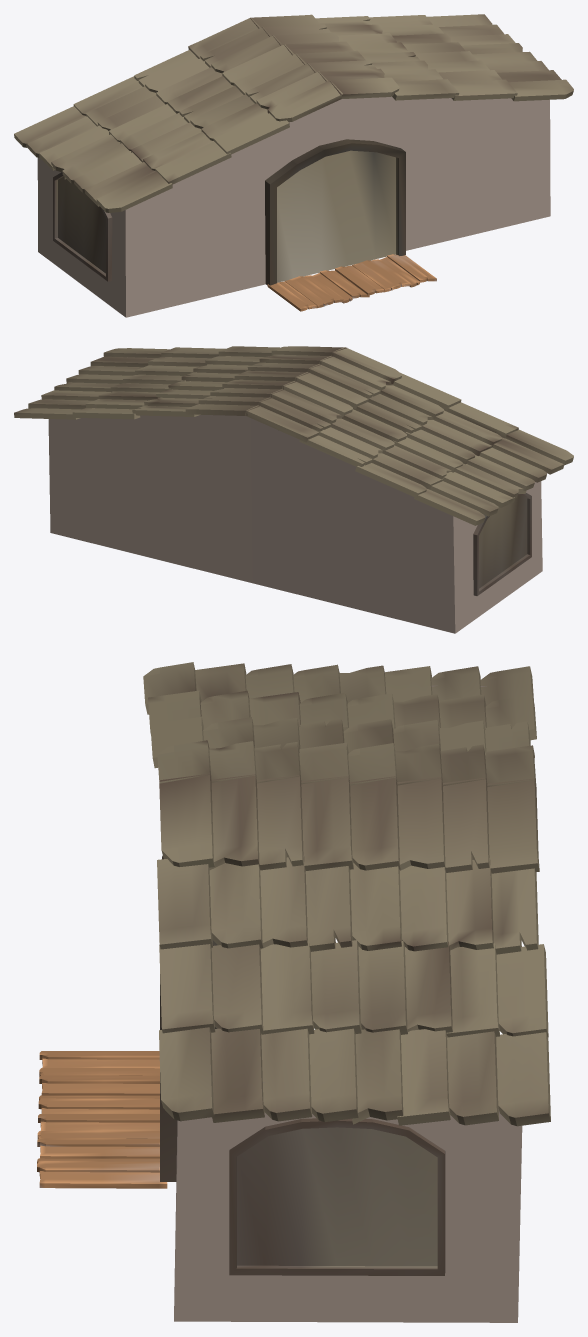
Rendered from House03 (1).fbx.
3 views of the same model, one above another, from view 1: azimuth 30°, elevation 25°; view 2: azimuth 150°, elevation 25°; view 3: azimuth 270°, elevation 25° (orthographic). The views are drawn at different scales.
Parts seen in each view (by area): view 1: House03_LOD0; view 2: House03_LOD0; view 3: House03_LOD0.
Part boxes in pixels (x1,y1,x2,y2): House03_LOD0: (14,14,573,317); House03_LOD0: (14,346,573,633); House03_LOD0: (37,662,550,1322).
Size of what is drawn, in the model's own units: 459 by 168 by 221.
